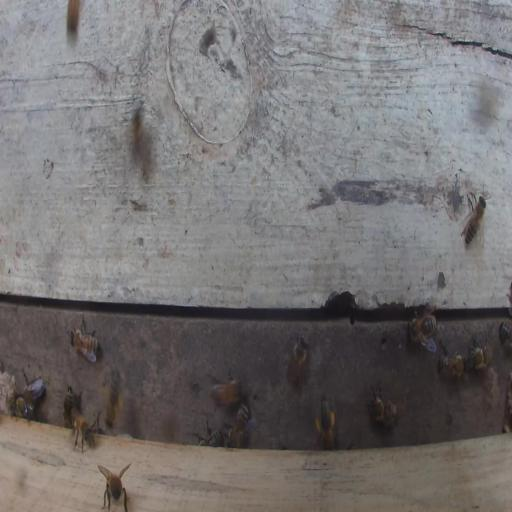bee: (105, 368, 124, 429), (464, 195, 487, 245), (315, 396, 335, 449), (226, 402, 248, 449), (286, 335, 307, 384), (70, 329, 102, 358), (103, 475, 128, 511), (210, 379, 243, 405), (73, 414, 94, 452), (407, 314, 436, 340), (436, 354, 466, 379), (370, 397, 397, 424), (67, 0, 81, 45), (9, 396, 35, 419), (64, 385, 77, 426), (19, 381, 44, 402), (471, 347, 493, 369), (500, 322, 512, 358), (204, 432, 221, 448)
